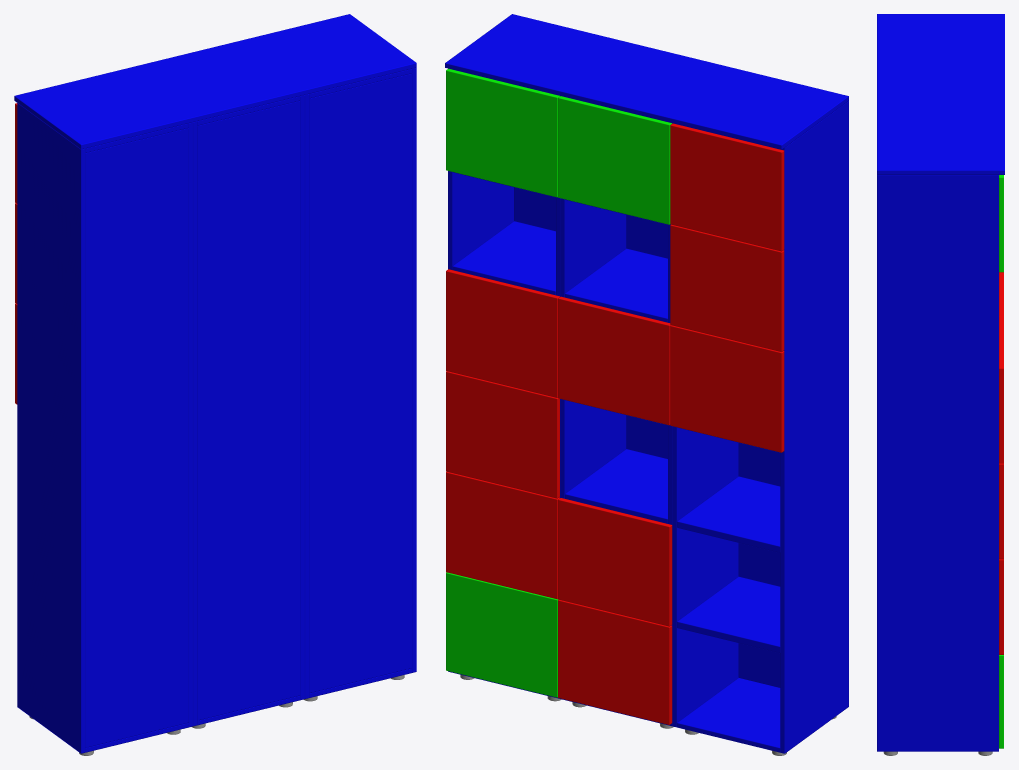
The model's file is BookShelf01.fbx.
The picture shows the model from 3 angles, left to right: view 1: azimuth 30°, elevation 25°; view 2: azimuth 150°, elevation 25°; view 3: azimuth 270°, elevation 25°; orthographic projection. The views are drawn at different scales.
Parts seen in each view (by area): view 1: polySurface255; view 2: polySurface255; view 3: polySurface255.
Boxes of the visible parts, left/top/right/bottom form: polySurface255: left=14, top=14, right=416, bottom=753; polySurface255: left=445, top=14, right=848, bottom=753; polySurface255: left=877, top=14, right=1004, bottom=751.
Size of the model in its own units: 1.63 by 2.87 by 0.5639.
